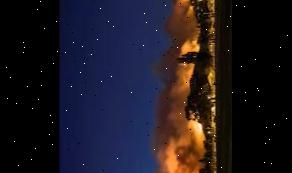fire: (148, 0, 218, 173)
